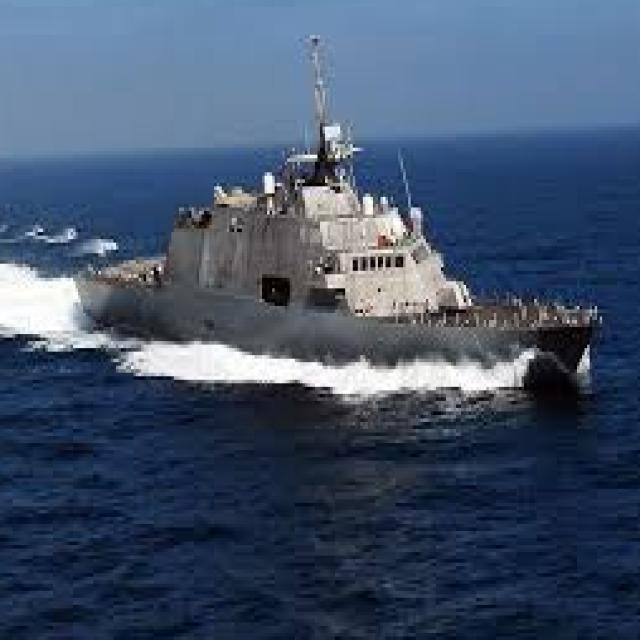navalvessels: (65, 54, 630, 412)
